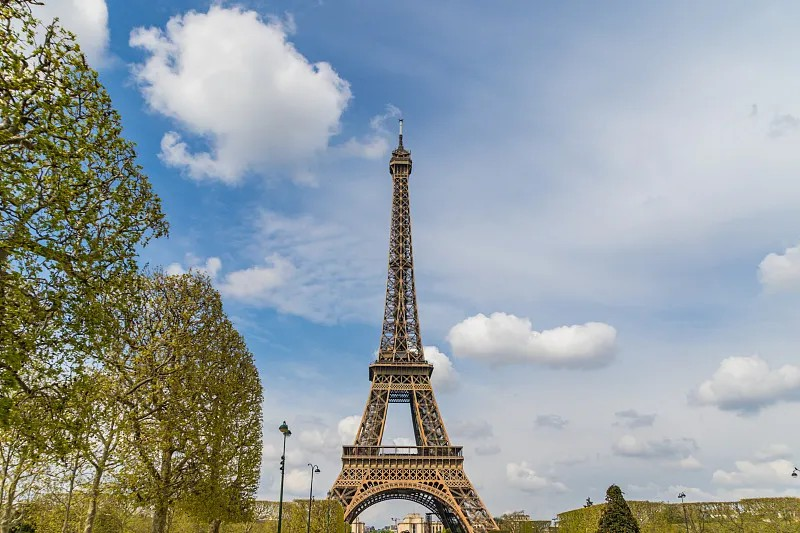Eiffel: (322, 120, 501, 533)
